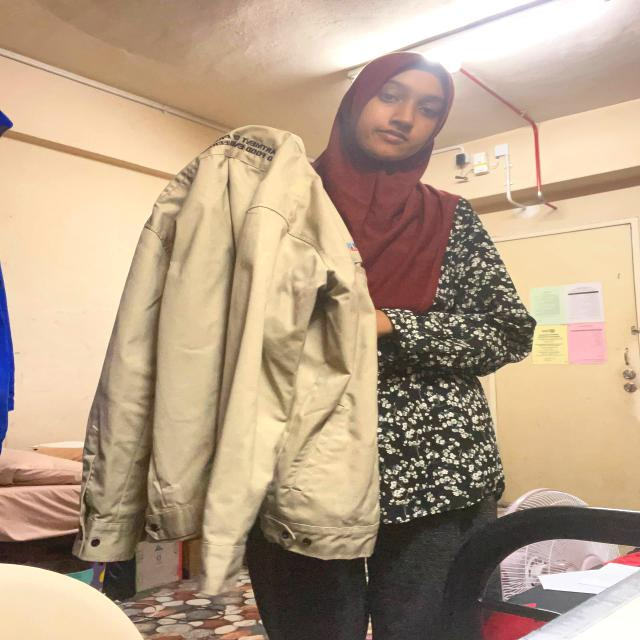person_without_labcoat: (80, 52, 534, 640)
